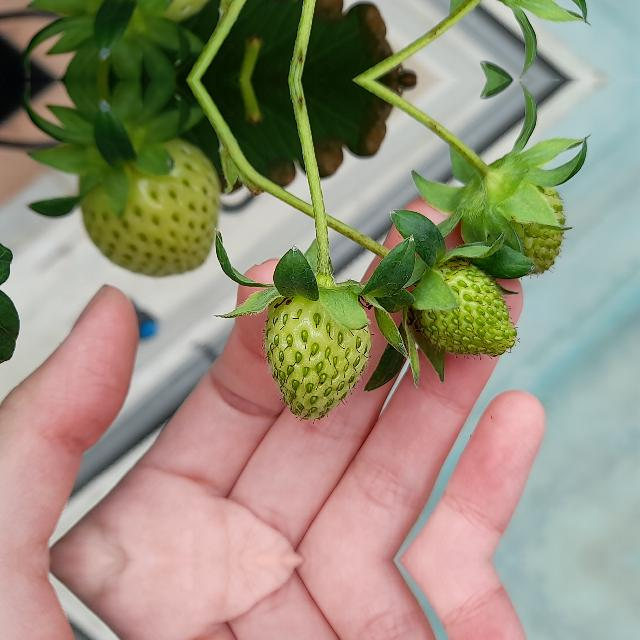Health_25: (79, 140, 223, 278), (264, 275, 370, 419), (414, 253, 518, 361)
